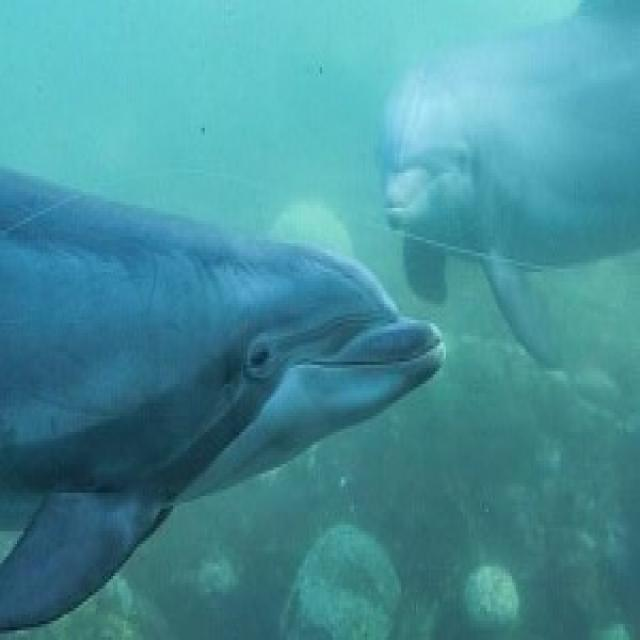Dolphin: (0, 154, 449, 628), (380, 0, 640, 303)
